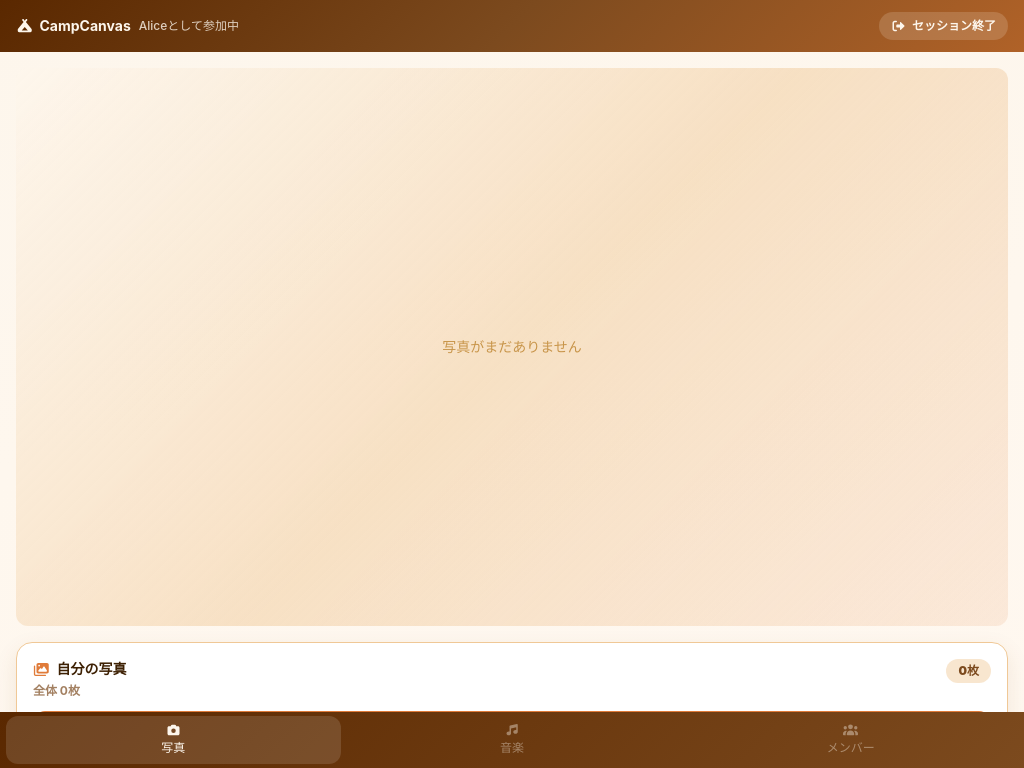
Test: MainPage - ホスト › メンバータブに切り替えると参加コードが表示される
The width and height of the screenshot is (1024, 768).
What coordinates should you click on to do the following:
click the tab "メンバー"
I would click on:
 (851, 740)
Its box is [683,716,1018,764].
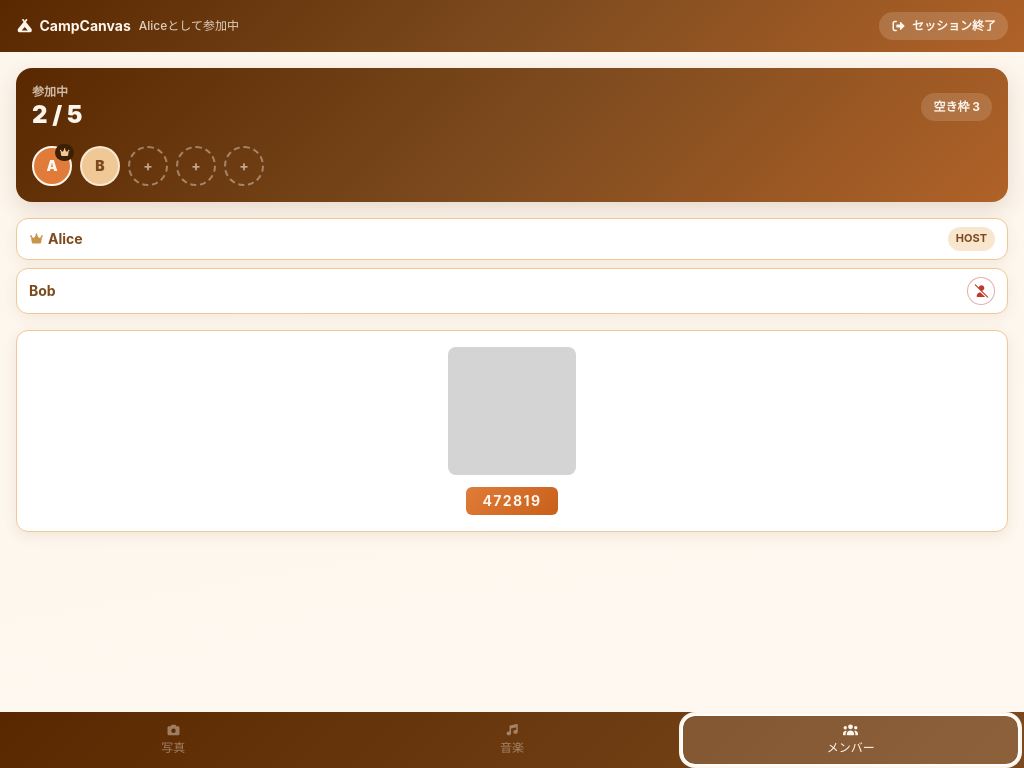
Expected: the text "472819" is shown, [466,487,558,515]
